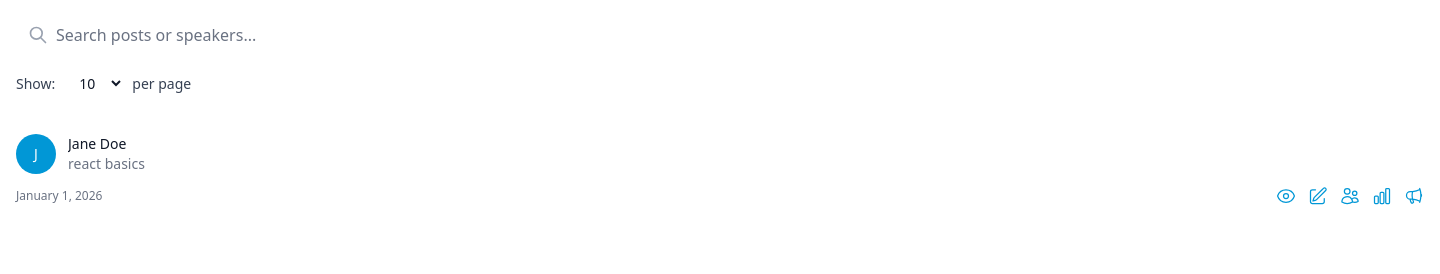
Test: BlogPostsTable › shows a search-specific empty message when the search matches nothing
In the field with placeholder "Search posts or speakers...": (240, 35) [16, 17, 464, 53], type "nomatch"
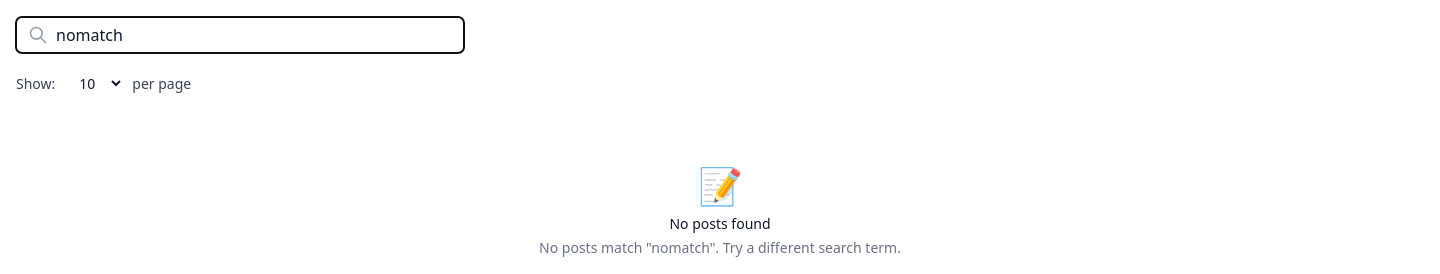
Result: the heading "No posts found" is shown at [669, 214, 770, 233]
